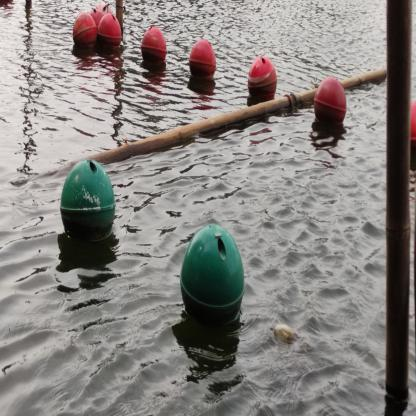green_buoy: (179, 216, 246, 335), (59, 158, 117, 247)
red_buoy: (314, 75, 348, 134), (247, 55, 279, 102), (188, 40, 219, 84), (139, 26, 168, 66), (70, 11, 98, 52), (97, 12, 124, 51), (90, 6, 105, 32)
